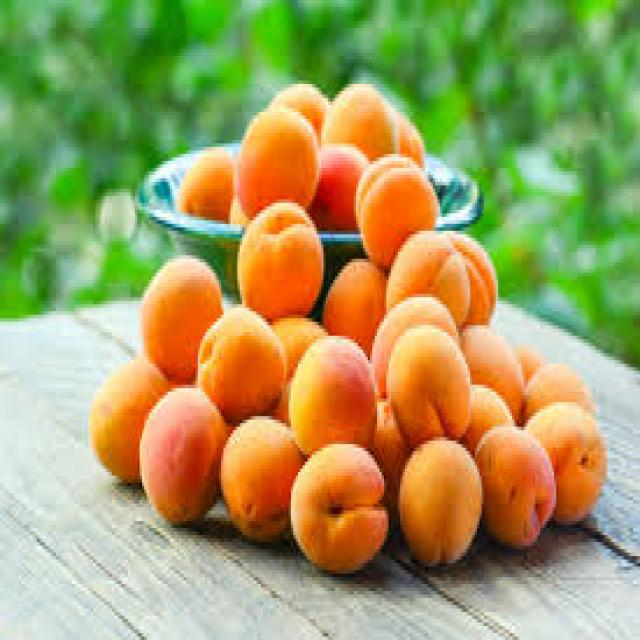kayisi: (181, 244, 576, 562)
